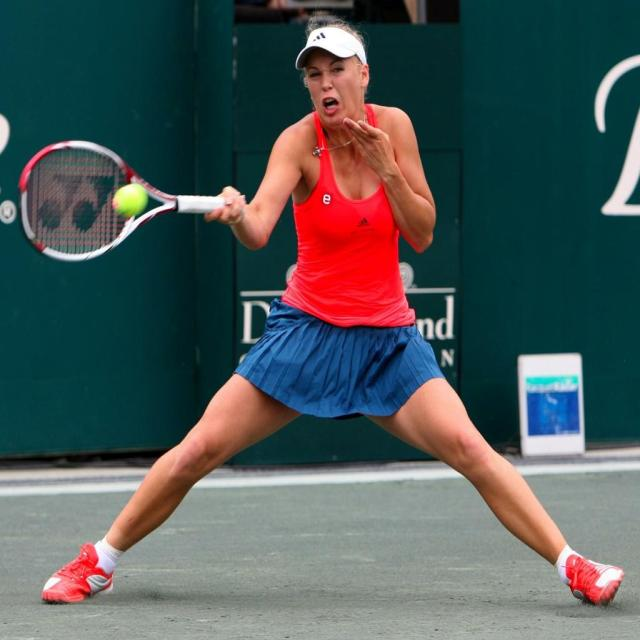Face: (304, 45, 372, 139)
